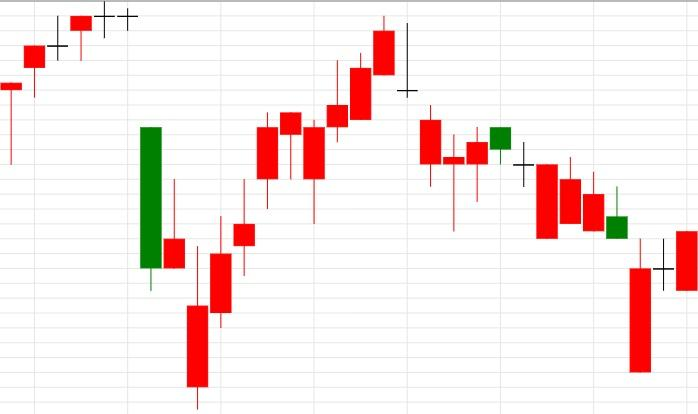inverse_hammer_rise: (94, 0, 186, 291)
